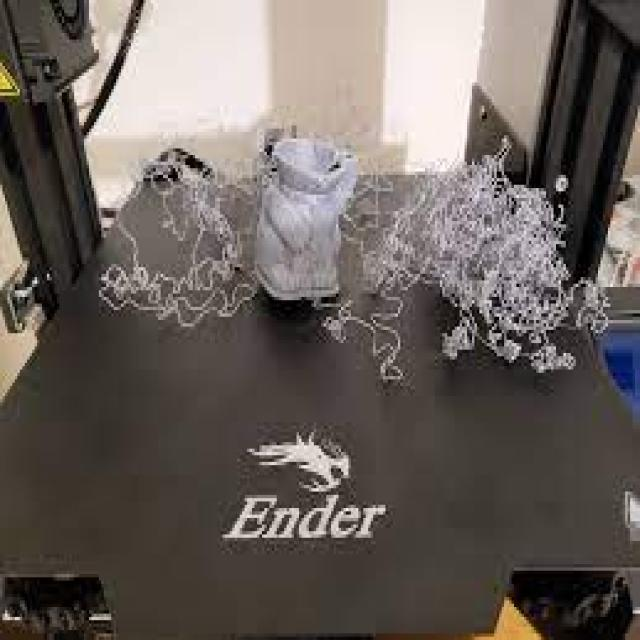spaghetti: (370, 139, 604, 404), (108, 106, 246, 335)
